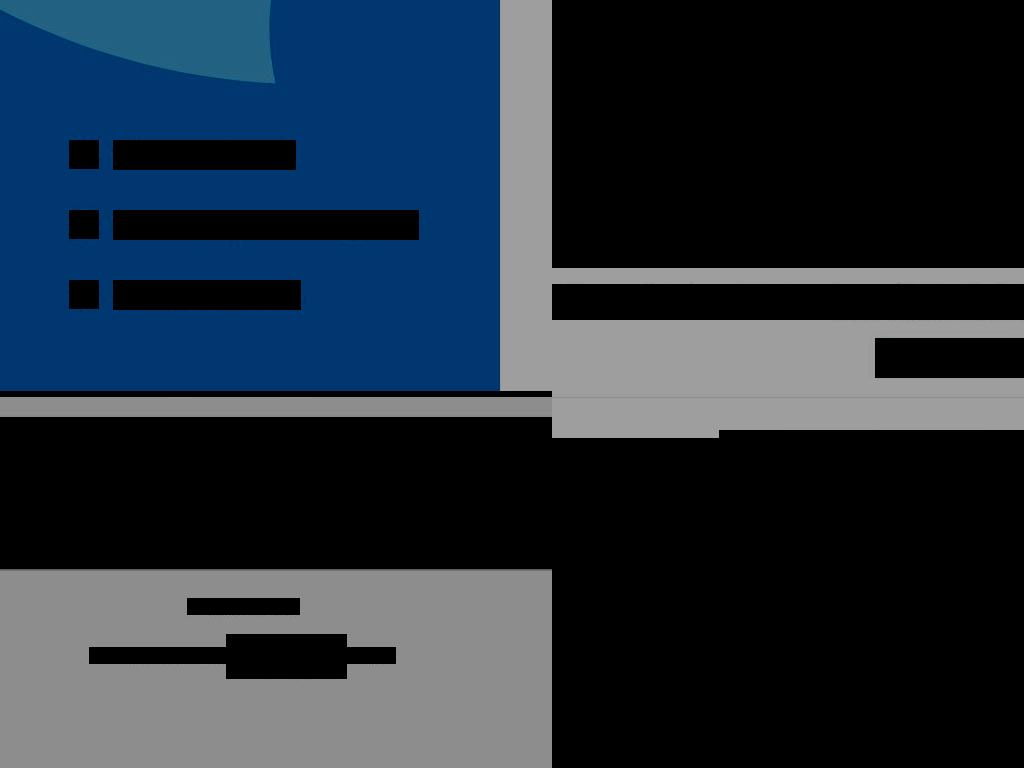button: (0, 417, 552, 569), (875, 338, 1024, 378)
field: (740, 114, 1024, 165)
heading: (552, 0, 1024, 72), (0, 435, 552, 471), (808, 23, 1024, 72)
image: (552, 0, 1024, 268), (719, 430, 1024, 768), (552, 438, 811, 768), (743, 513, 1019, 569), (226, 634, 347, 679), (69, 140, 99, 169), (69, 210, 99, 239), (69, 280, 99, 309), (997, 579, 1009, 591), (997, 647, 1009, 659), (997, 715, 1009, 727)
link: (187, 598, 300, 615)
text: (552, 284, 1024, 320), (0, 491, 552, 512), (113, 210, 419, 240), (0, 522, 504, 538), (113, 280, 301, 310), (113, 140, 296, 170), (89, 647, 182, 664), (346, 647, 396, 664), (182, 647, 228, 664), (761, 580, 813, 592), (800, 613, 847, 625), (800, 681, 847, 693), (800, 749, 847, 761), (838, 580, 884, 592), (761, 594, 807, 606), (820, 648, 857, 660), (820, 716, 857, 728), (761, 648, 795, 660), (761, 716, 795, 728), (761, 662, 791, 674), (824, 662, 854, 674), (874, 730, 904, 742), (793, 662, 822, 674), (811, 730, 833, 742), (815, 580, 836, 592), (797, 648, 818, 660), (797, 716, 818, 728), (775, 730, 796, 742), (761, 613, 780, 625), (761, 681, 780, 693), (834, 730, 853, 742), (761, 749, 780, 761), (855, 730, 872, 742), (982, 580, 994, 591), (982, 648, 994, 659), (761, 730, 772, 742), (797, 730, 808, 742), (982, 716, 994, 727)
